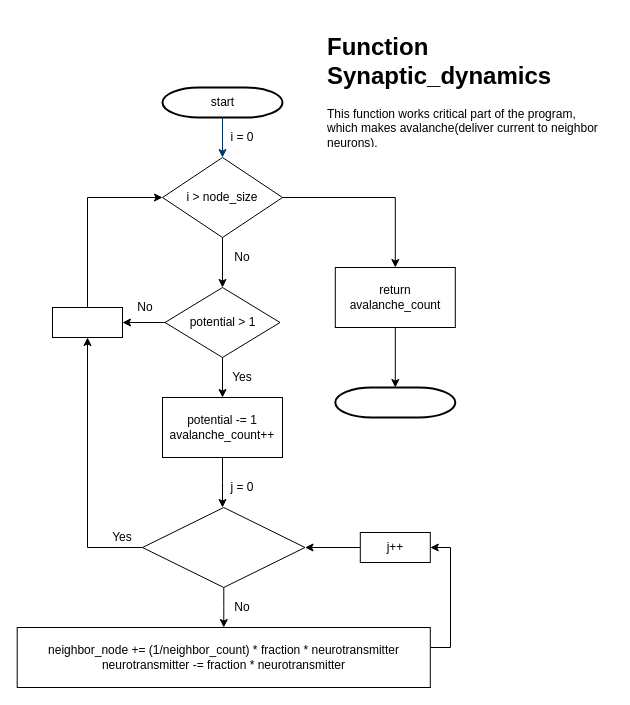
This 630x705 diagram has some shape labels left out. The centre of each missing label's shape, as x and y in pixels:
"end" belongs at pixel 395 402.
"i++" belongs at pixel 87 322.
"j > neighbor_count" belongs at pixel 223 547.
